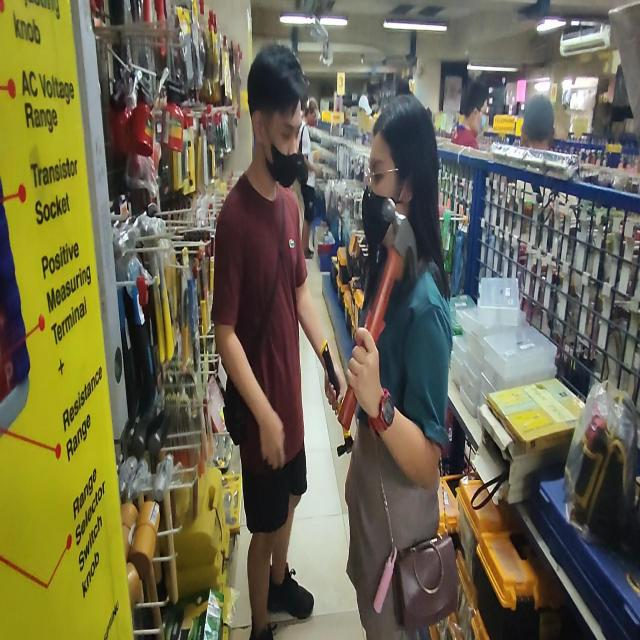hammer: (338, 200, 417, 430), (320, 339, 356, 457)
